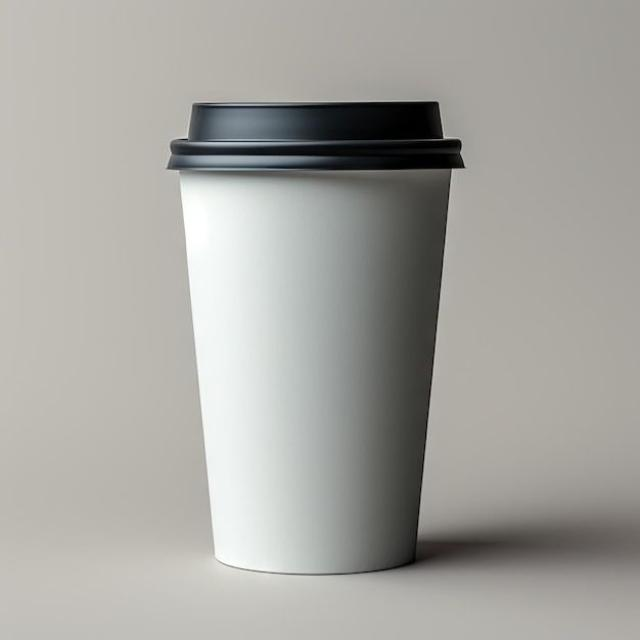paper cup: (168, 101, 468, 576)
